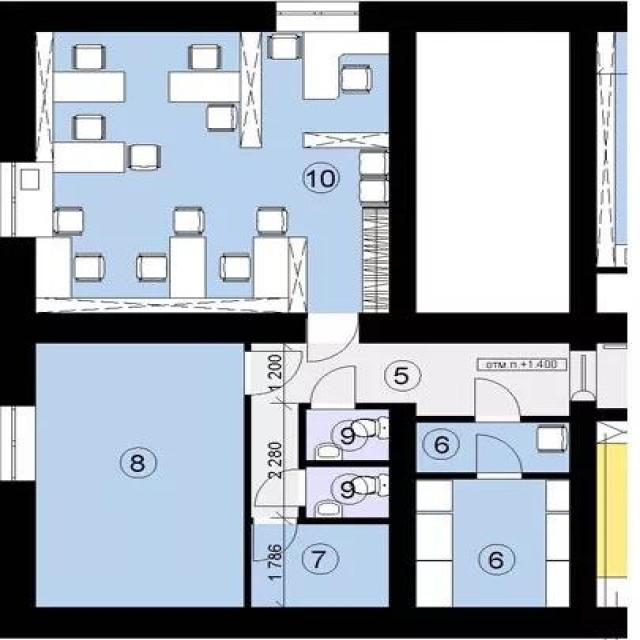Bathrooms: (306, 410, 388, 460), (308, 468, 389, 517)
Corridors: (251, 343, 570, 517), (417, 31, 567, 313), (418, 422, 570, 473), (598, 444, 630, 606), (599, 346, 633, 406)
Doors: (243, 349, 304, 397), (304, 312, 358, 366), (475, 432, 526, 481), (472, 376, 524, 423), (308, 363, 358, 411), (252, 517, 300, 564), (253, 468, 308, 509), (569, 350, 597, 403)
LBwalls: (0, 402, 629, 638), (356, 1, 628, 350), (0, 236, 307, 407), (0, 1, 276, 164), (388, 33, 417, 313)
Offices: (17, 33, 389, 312), (38, 343, 242, 607), (416, 480, 570, 606), (253, 525, 389, 606), (598, 32, 632, 312)
Walls: (297, 402, 388, 470), (296, 505, 388, 524), (418, 473, 475, 481), (597, 407, 629, 421), (521, 471, 570, 480), (418, 415, 475, 422), (520, 415, 569, 423), (356, 402, 388, 410)
Windows: (0, 406, 36, 482), (276, 1, 358, 32), (1, 164, 16, 236)
